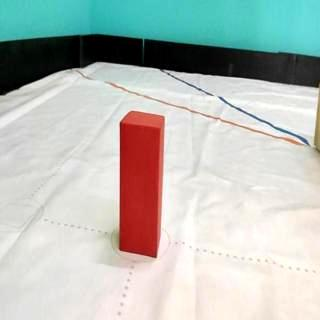redbox: (120, 109, 165, 260)
